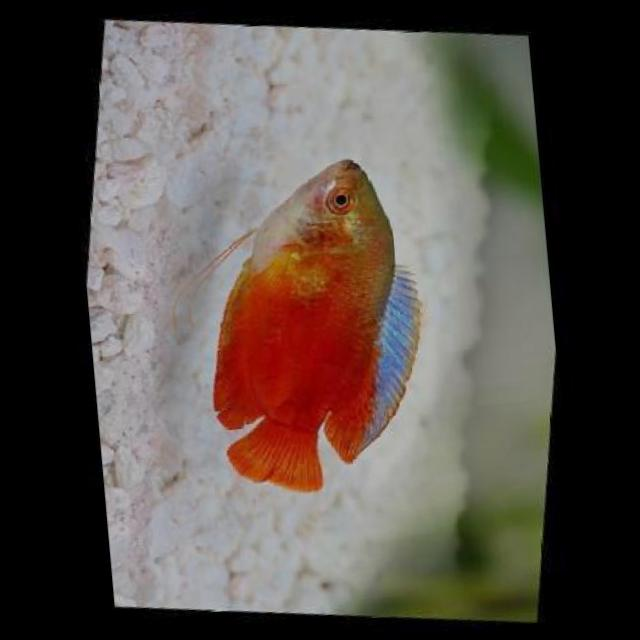Gourami: (194, 152, 440, 502)
